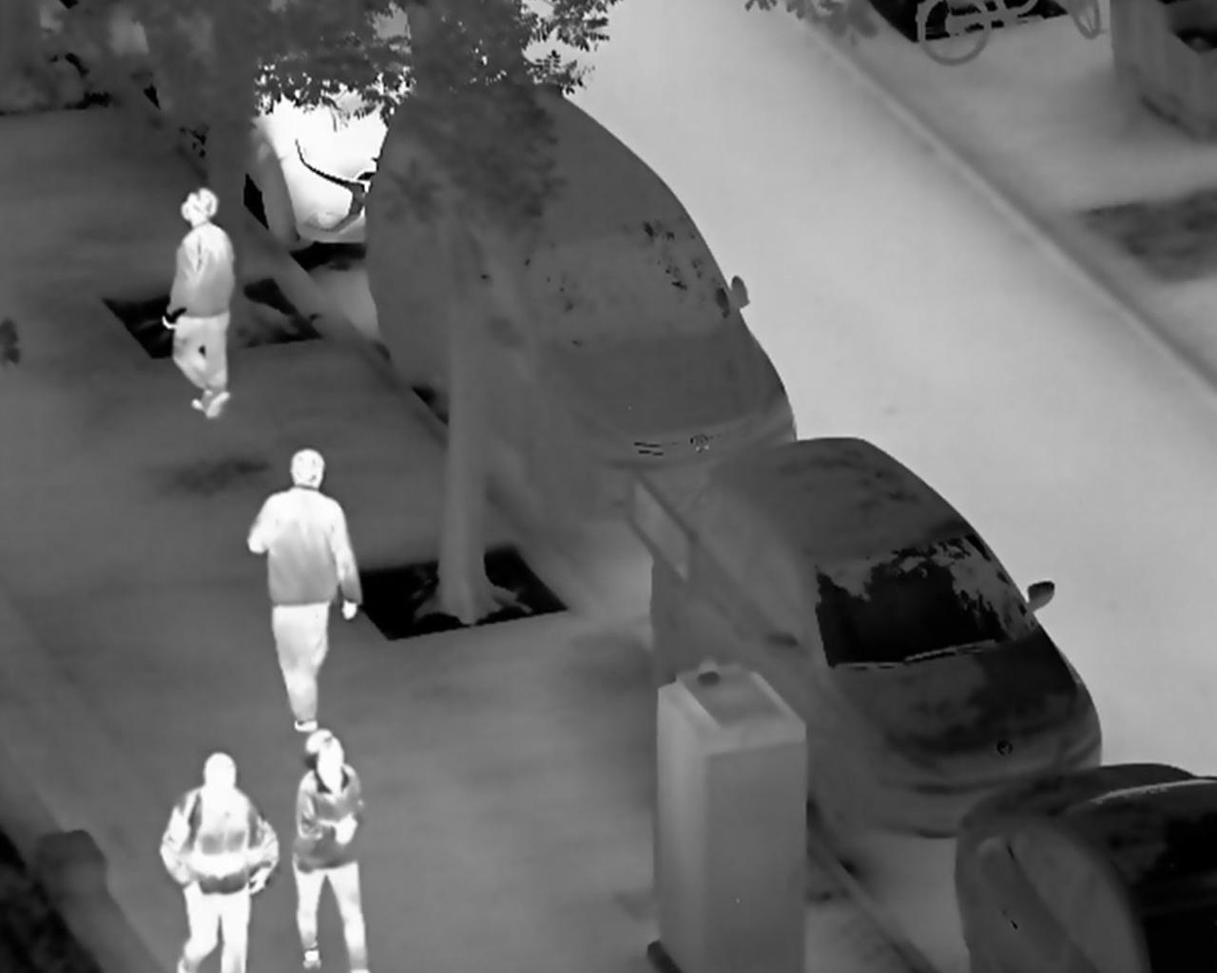person: (248, 447, 366, 740), (152, 749, 280, 973), (289, 729, 375, 973), (157, 185, 235, 419)
